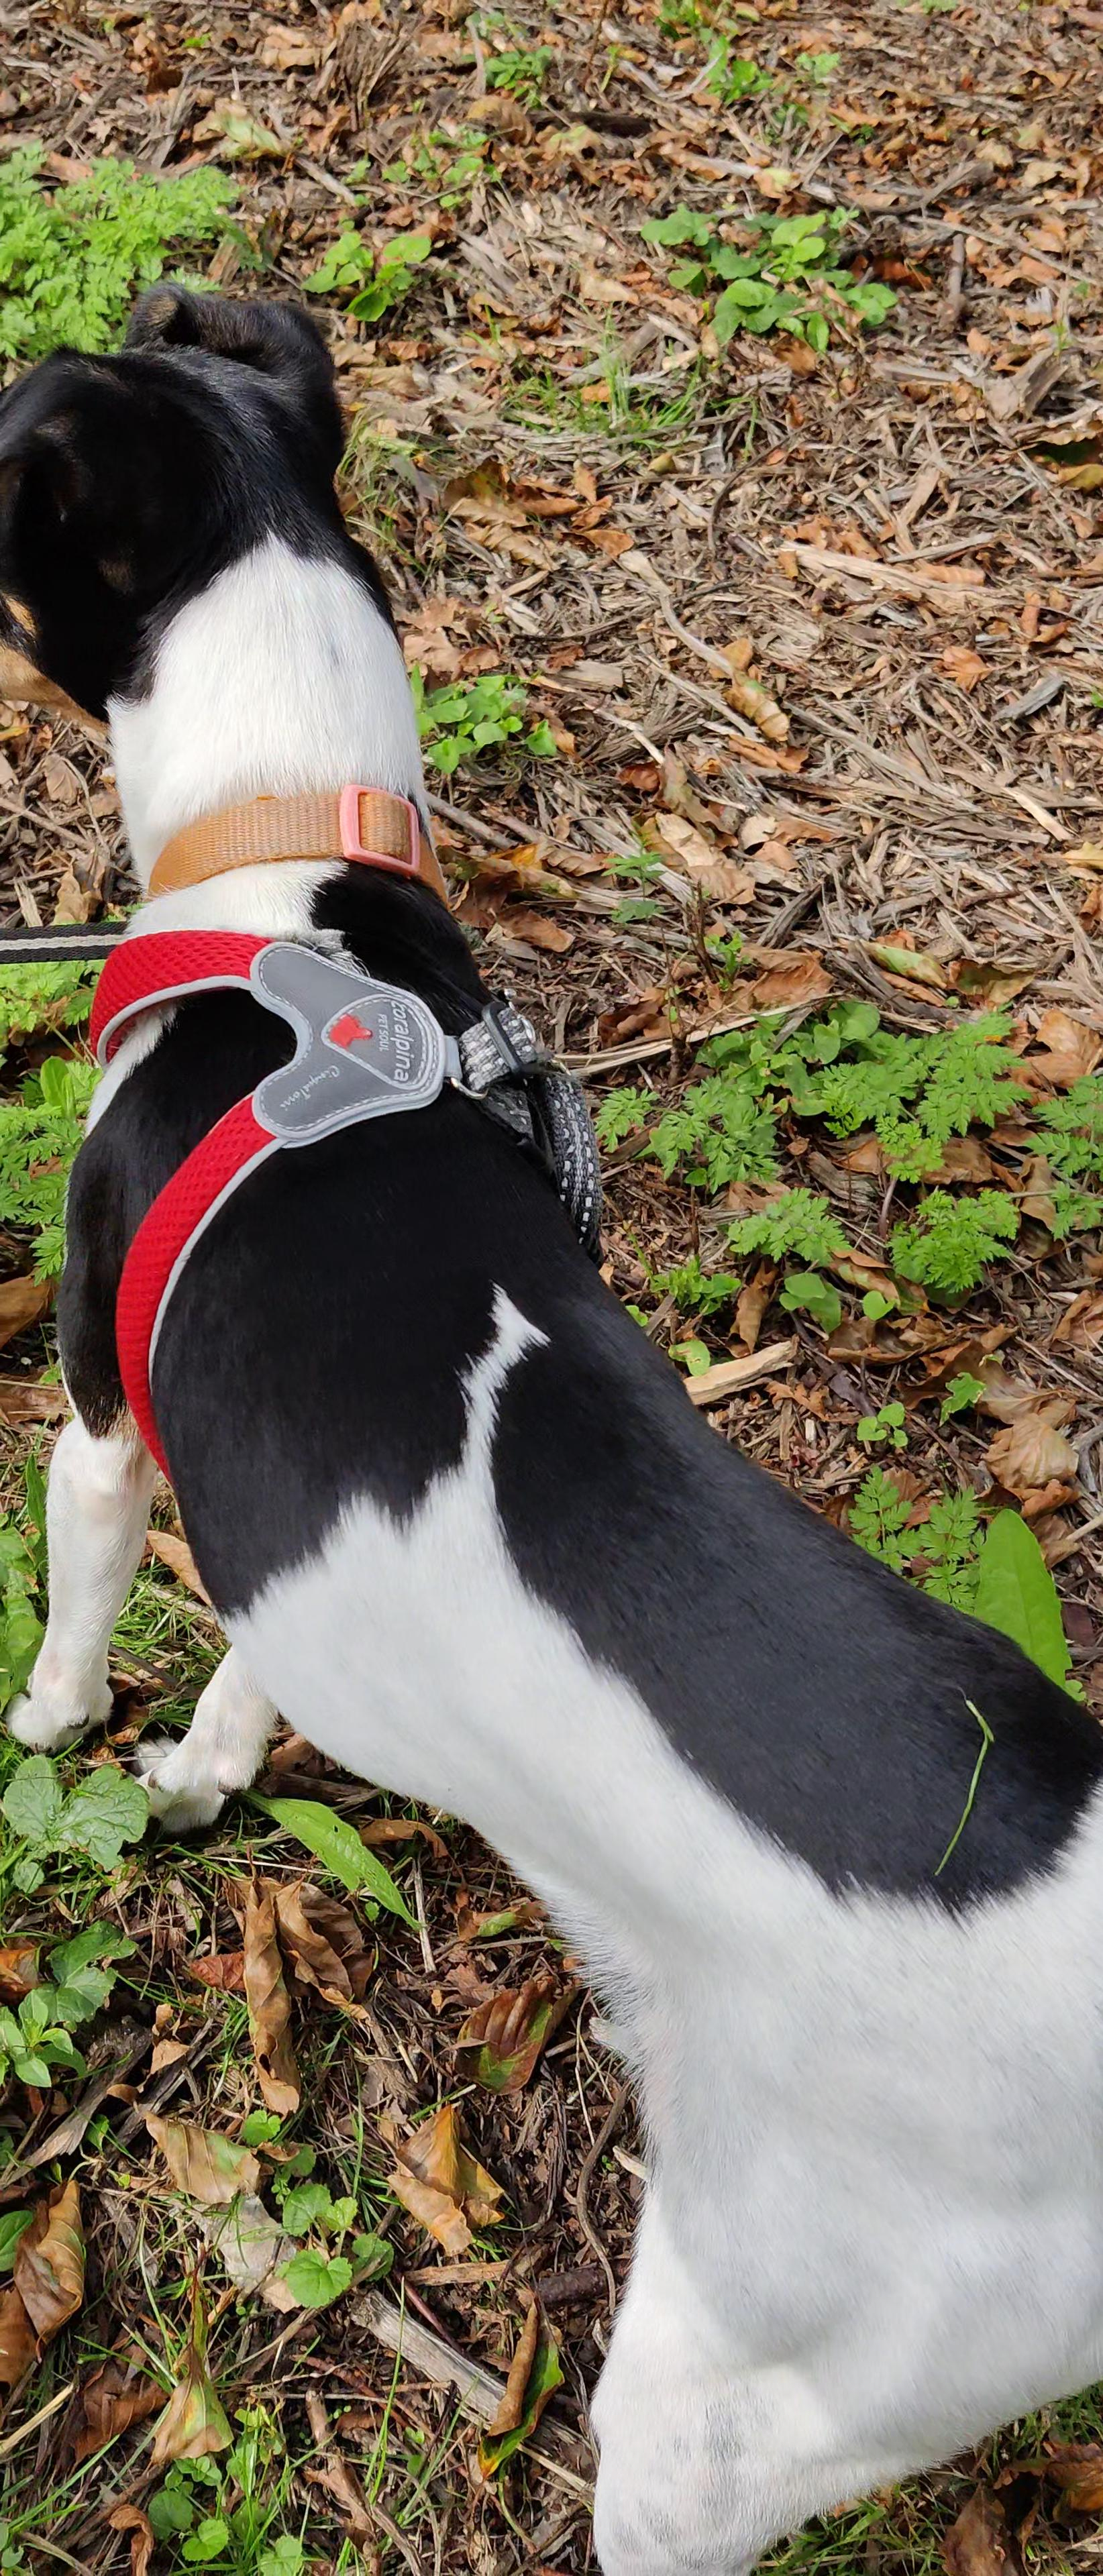Dog: (0, 243, 1103, 2576)
